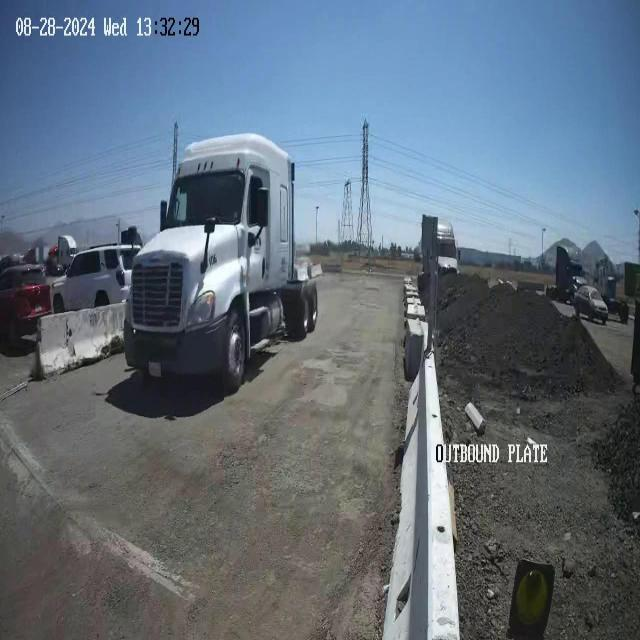TRUCK_OUT: (123, 131, 318, 391)
